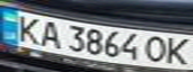3: (63, 22, 87, 54)
4: (121, 30, 142, 61)
6: (103, 29, 124, 58)
8: (81, 26, 106, 56)
A: (36, 19, 63, 49)
K: (9, 12, 45, 45), (163, 35, 193, 66)
O: (142, 34, 172, 64)
